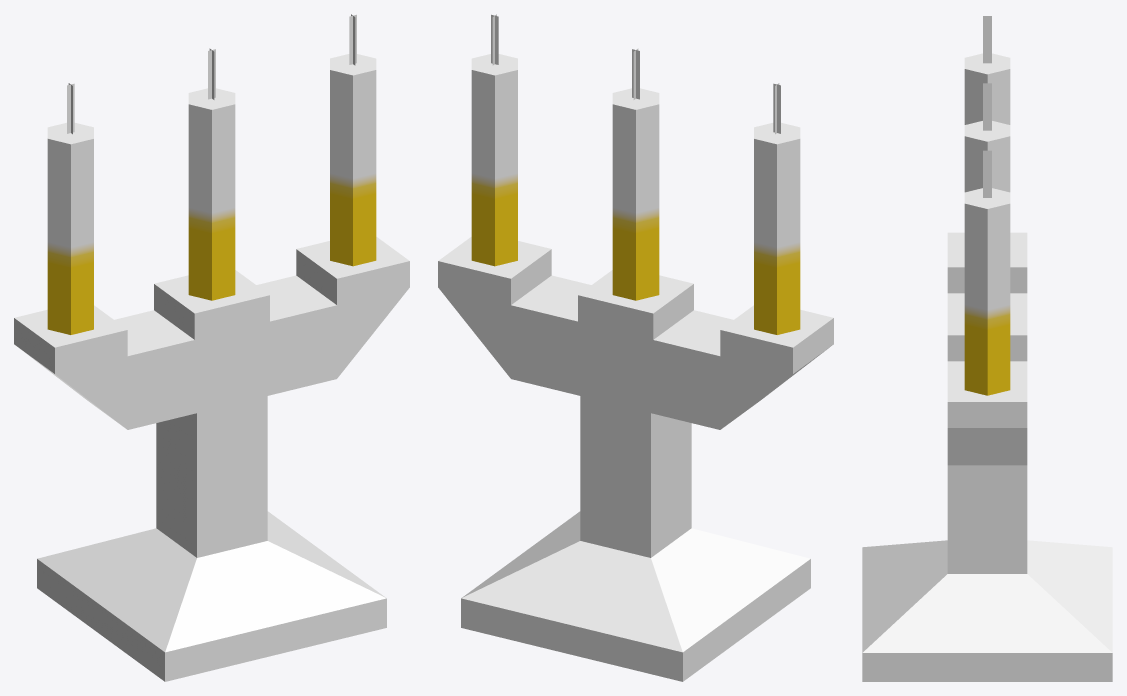
Rendered from candleTriple_Stand.fbx.
3 renders of one model, left to right at view 1: azimuth 30°, elevation 25°; view 2: azimuth 150°, elevation 25°; view 3: azimuth 270°, elevation 25°, orthographic. The views are drawn at different scales.
Parts seen in each view (by area): view 1: candleTriple_Stand; view 2: candleTriple_Stand; view 3: candleTriple_Stand.
Part boxes in pixels (x1=…): candleTriple_Stand: x1=14, y1=14, x2=409, y2=681; candleTriple_Stand: x1=438, y1=14, x2=833, y2=681; candleTriple_Stand: x1=862, y1=16, x2=1112, y2=681.
Size of the model in its own units: 50.34 by 75.6 by 31.44.
